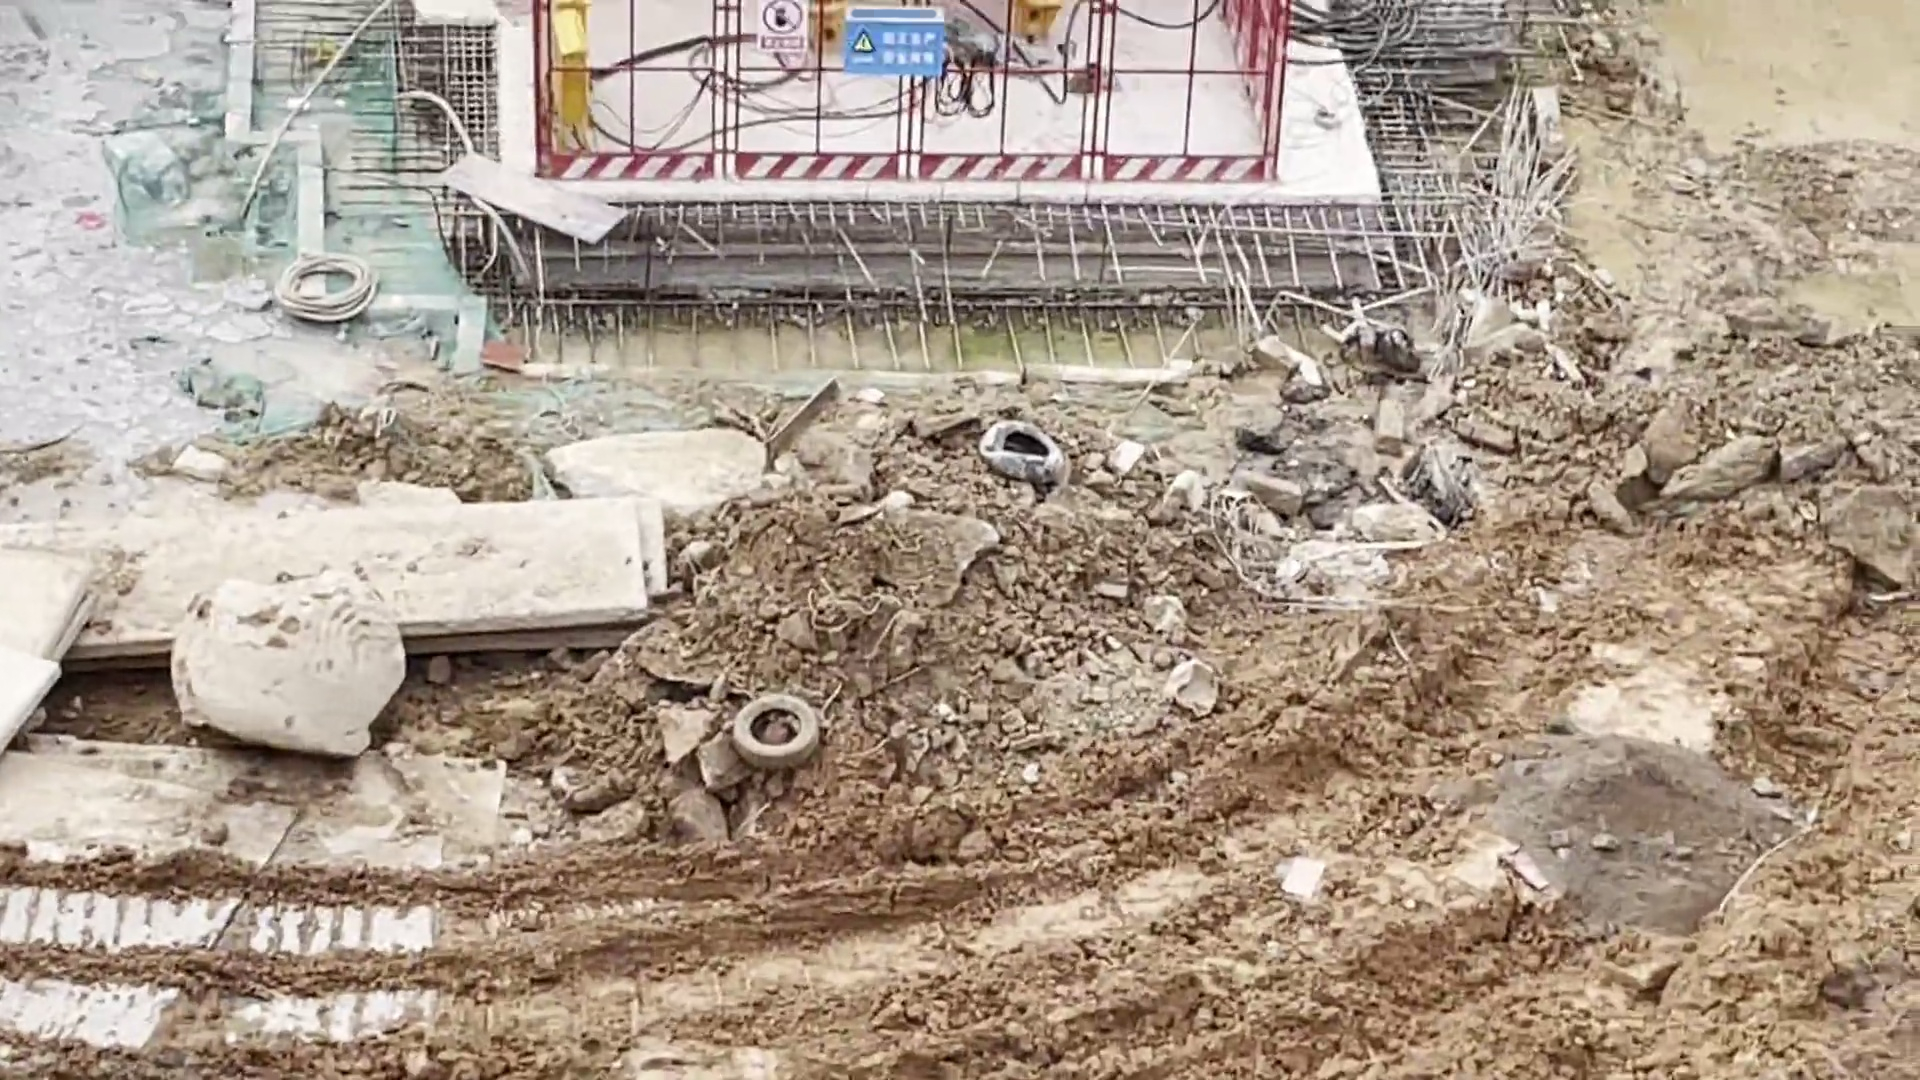ebox: (547, 7, 588, 137)
fence: (539, 3, 1287, 185)
slogan: (841, 8, 944, 74), (756, 7, 808, 58)
